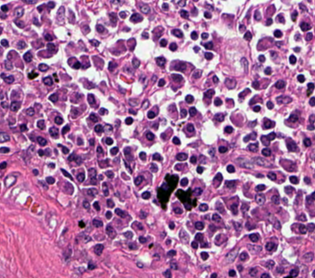nucleus: (268, 214, 280, 229), (238, 158, 253, 168), (238, 88, 250, 100), (286, 138, 297, 151), (153, 26, 163, 39), (213, 173, 222, 187), (276, 95, 291, 103), (252, 157, 267, 165), (263, 118, 274, 128), (61, 169, 72, 179), (214, 234, 225, 244), (130, 13, 142, 22), (243, 132, 255, 141), (64, 182, 73, 194), (106, 225, 115, 237), (179, 230, 188, 242), (124, 147, 132, 160), (225, 78, 235, 88), (156, 56, 165, 67), (174, 62, 185, 71), (127, 38, 135, 50), (109, 12, 116, 25), (204, 89, 214, 98), (36, 136, 46, 145), (58, 144, 68, 153), (134, 175, 143, 185), (255, 194, 264, 204), (115, 208, 125, 217), (171, 74, 182, 82), (274, 80, 285, 88), (57, 6, 64, 18), (124, 160, 131, 172), (96, 24, 105, 33), (47, 43, 56, 52), (43, 76, 52, 85), (94, 124, 103, 133), (260, 136, 269, 145), (300, 22, 310, 30), (172, 29, 182, 37), (38, 63, 48, 71), (214, 113, 224, 121), (49, 127, 57, 137), (247, 143, 257, 151), (88, 168, 96, 178), (86, 188, 96, 196), (271, 194, 279, 204), (249, 233, 259, 241), (241, 58, 247, 71), (87, 94, 94, 105), (176, 153, 187, 160), (216, 201, 223, 212), (140, 5, 149, 13), (68, 57, 76, 66), (108, 61, 116, 70), (192, 70, 201, 78), (307, 83, 313, 95), (289, 113, 297, 122), (266, 132, 275, 140), (99, 159, 108, 167), (267, 172, 276, 180), (212, 213, 221, 221), (93, 219, 102, 227), (298, 224, 306, 233), (37, 119, 44, 129), (241, 202, 248, 212), (231, 203, 237, 214), (180, 10, 188, 18), (54, 116, 62, 124), (303, 138, 311, 146), (110, 147, 118, 155), (262, 148, 270, 156), (105, 170, 113, 178), (285, 186, 293, 194), (244, 31, 251, 40), (90, 39, 99, 46), (203, 42, 212, 49), (132, 58, 139, 67), (189, 107, 196, 116), (147, 111, 156, 118), (89, 114, 98, 121), (186, 123, 193, 132), (152, 153, 161, 160), (77, 172, 84, 181), (289, 176, 298, 183), (245, 222, 254, 229), (254, 10, 260, 20), (175, 164, 185, 170), (225, 181, 235, 187), (103, 183, 108, 195), (277, 14, 284, 22), (274, 30, 282, 37), (44, 33, 52, 40), (204, 52, 212, 59), (72, 61, 80, 68), (49, 94, 57, 101), (185, 95, 193, 102), (72, 108, 79, 116), (180, 109, 187, 117), (62, 125, 69, 133), (224, 126, 232, 133), (146, 132, 154, 139), (172, 137, 180, 144), (150, 164, 157, 172), (46, 176, 54, 183), (180, 178, 187, 186), (193, 188, 201, 195), (142, 191, 150, 198), (199, 204, 207, 211), (134, 222, 142, 229), (195, 222, 203, 229), (233, 222, 241, 229), (306, 223, 313, 231), (124, 231, 132, 238), (291, 11, 297, 20), (289, 55, 295, 64), (28, 72, 37, 78), (97, 146, 103, 155), (256, 184, 265, 190), (309, 114, 314, 124), (47, 1, 54, 8), (119, 11, 126, 18), (169, 43, 176, 50), (297, 75, 304, 82), (252, 81, 259, 88), (214, 98, 221, 105), (125, 117, 132, 124), (227, 165, 234, 172), (39, 181, 46, 188), (195, 233, 202, 240), (139, 236, 146, 243), (191, 31, 197, 39), (129, 99, 137, 105), (142, 100, 148, 108), (218, 146, 226, 152), (68, 154, 76, 160), (107, 199, 113, 207), (83, 201, 89, 209), (174, 207, 182, 213), (128, 243, 136, 249), (309, 96, 314, 105), (162, 3, 168, 10), (299, 4, 306, 10), (266, 18, 272, 25), (83, 26, 89, 33), (306, 33, 312, 40), (160, 39, 166, 46), (264, 67, 270, 74), (158, 79, 164, 86), (267, 101, 273, 108), (168, 104, 174, 111), (253, 105, 260, 111), (99, 108, 106, 114), (105, 138, 112, 144), (139, 152, 145, 159), (190, 156, 196, 163), (197, 166, 203, 173), (298, 214, 305, 220), (191, 241, 197, 248), (177, 1, 185, 6), (53, 73, 58, 81), (151, 75, 156, 83), (94, 202, 99, 210), (37, 5, 43, 11), (204, 12, 210, 18), (239, 25, 245, 31), (258, 55, 264, 61), (105, 124, 111, 130), (38, 149, 44, 155), (304, 177, 310, 183), (91, 178, 97, 184), (307, 197, 313, 203), (34, 18, 39, 25), (201, 33, 208, 38), (213, 76, 218, 83), (129, 109, 136, 114), (77, 137, 82, 144), (209, 148, 214, 155), (106, 211, 111, 218), (142, 32, 148, 37), (153, 123, 158, 129), (76, 157, 81, 163), (79, 221, 84, 227), (169, 222, 174, 228), (192, 7, 196, 14), (44, 149, 49, 154), (293, 47, 299, 51), (89, 139, 93, 145), (141, 211, 145, 217), (201, 243, 207, 247), (111, 1, 121, 3), (194, 46, 198, 51), (271, 52, 275, 57), (49, 163, 54, 167), (33, 169, 37, 174), (166, 239, 170, 244), (256, 174, 262, 177), (276, 42, 281, 45)
